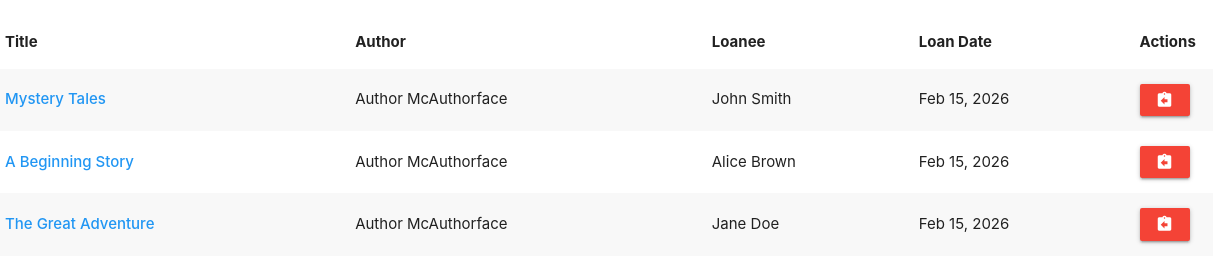
Scenario: LoanedBookGrid Component › should display sort indicator correctly for ascending
This screenshot has width=1213, height=263.
Click the column heading "Title" at (21, 42), box [0,16,350,68]
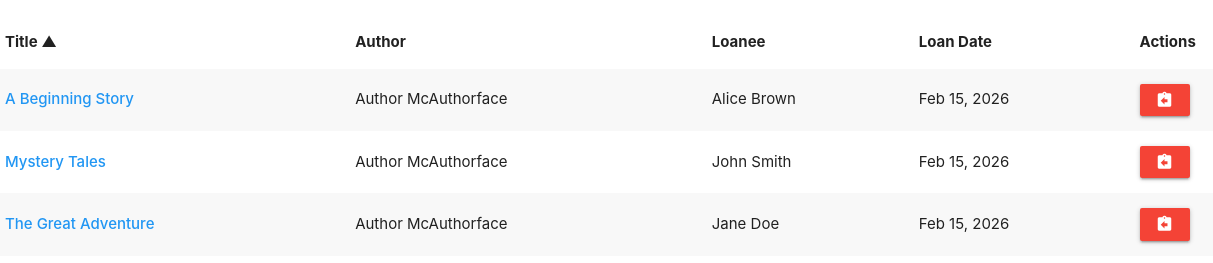
Result: the column heading "Title ▲" is shown at [0,16,350,68]
